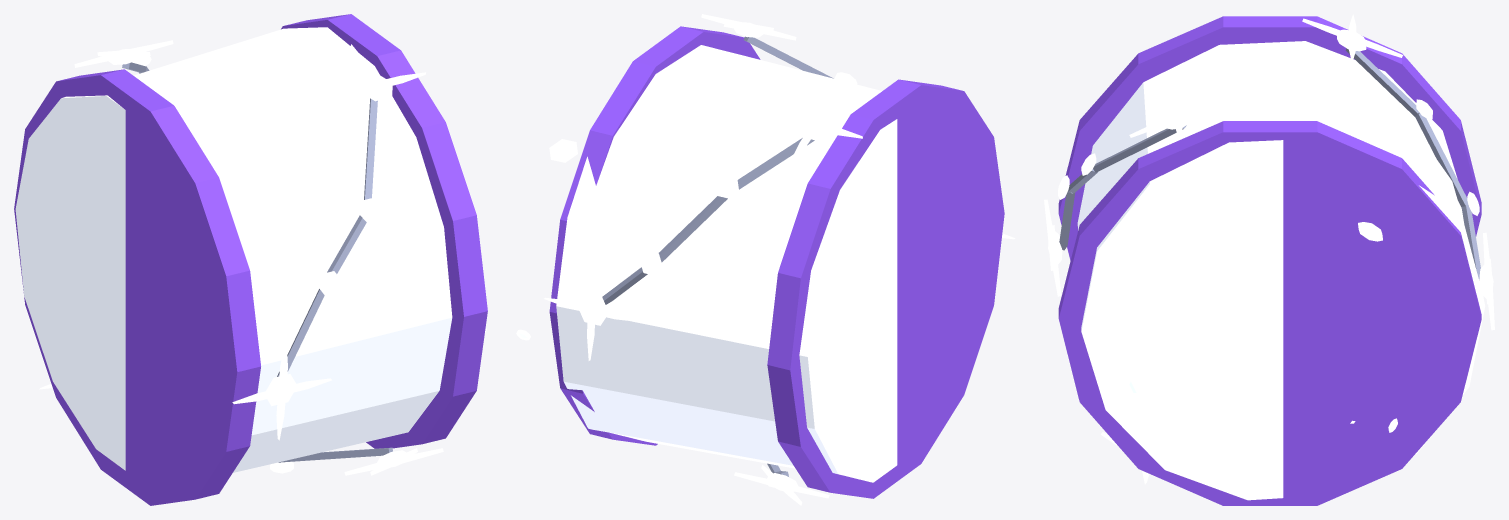
The model's file is star_giant_bracer_r.glb.
3 renders of one model, left to right at view 1: azimuth 30°, elevation 25°; view 2: azimuth 150°, elevation 25°; view 3: azimuth 270°, elevation 25°, orthographic. The views are drawn at different scales.
Parts seen in each view (by area): view 1: star_giant_bracer_r; view 2: star_giant_bracer_r; view 3: star_giant_bracer_r.
Boxes of the visible parts, x1,y1,x2,y2 form: star_giant_bracer_r: [14, 14, 487, 505]; star_giant_bracer_r: [516, 14, 1015, 505]; star_giant_bracer_r: [1044, 14, 1494, 505].
Bounding box in the file's own units: 0.2852 × 0.3421 × 0.3454.
